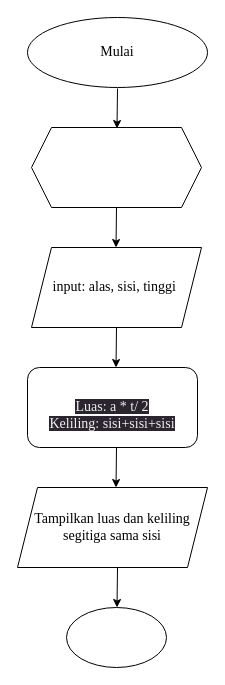
Some shapes in this 225 by 685 pixel diagram are drawn without their labels. The shapes that lost their labels are listed below. From the top down, each one's centre as x and y in pixels, then its label:
At point 116,167: "Int alas, tinggi,sisi, luas, keliling".
At point 116,637: "Selesai".
